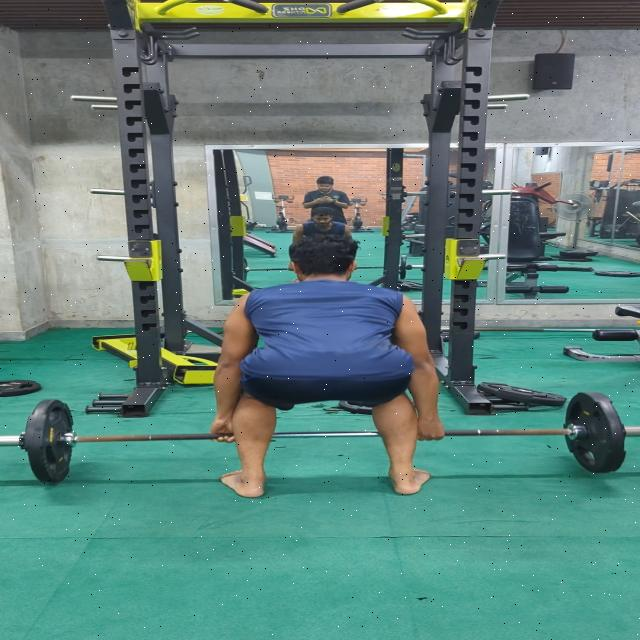Normal_Deadlifts: (208, 230, 452, 501)
